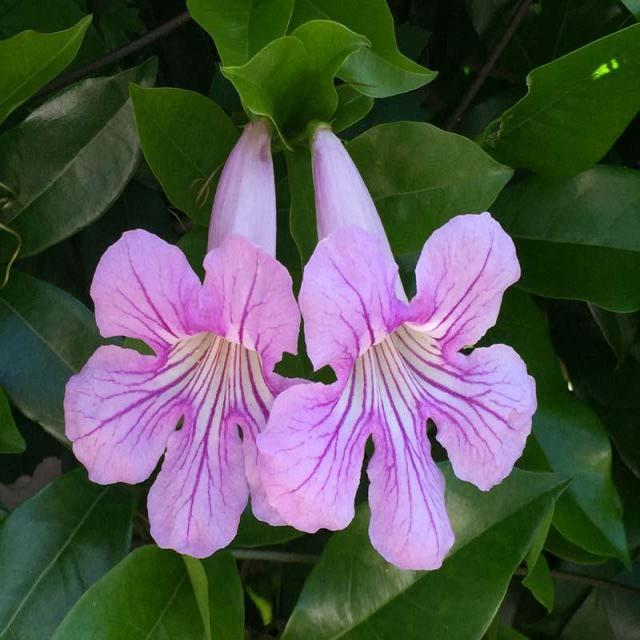organic waste: (262, 136, 540, 584), (65, 118, 331, 562)
